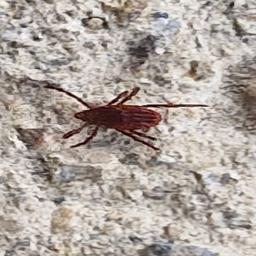Rhipicephalus sanguineus: (42, 87, 162, 154)
